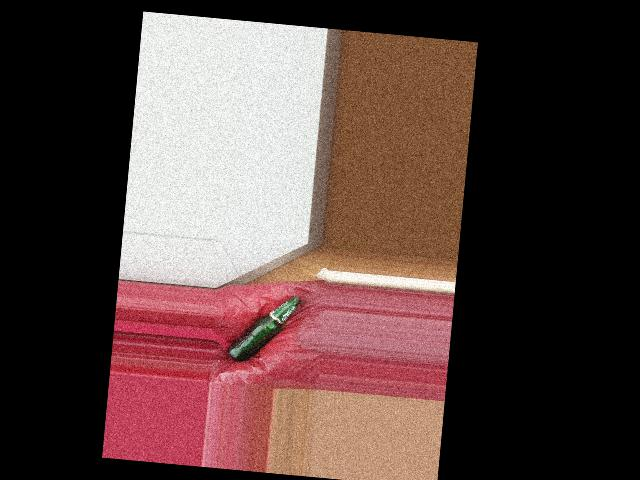beer: (227, 290, 302, 366)
